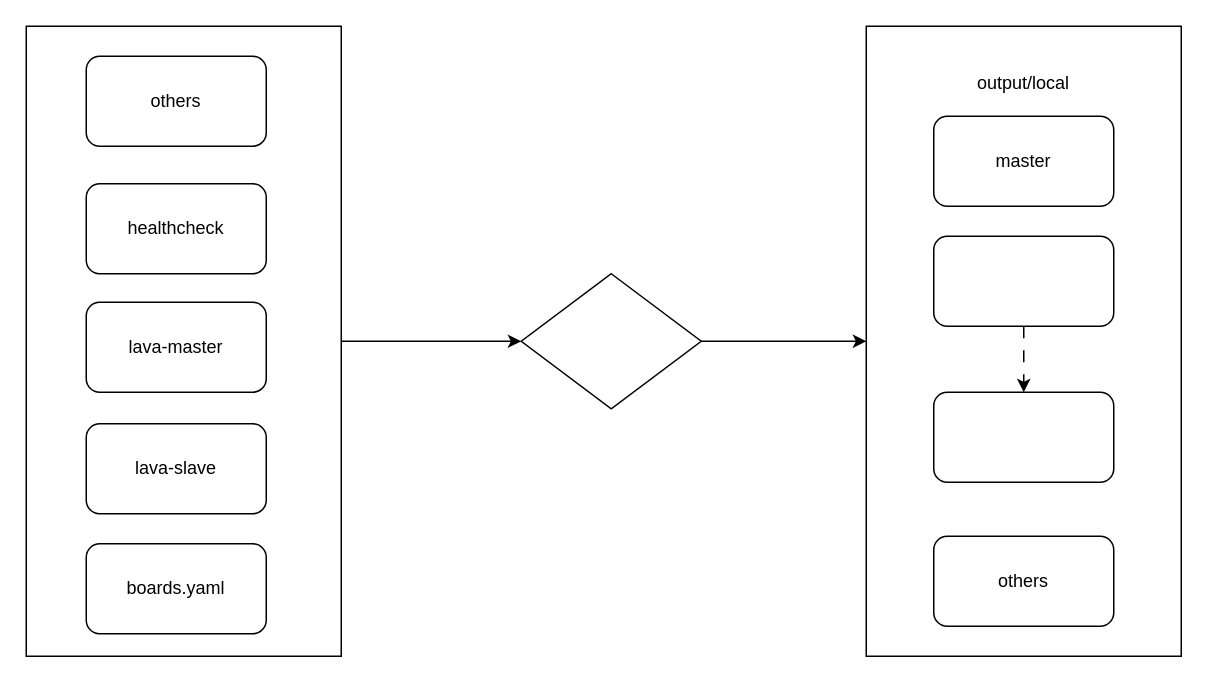
This 1208x683 diagram has some shape labels left out. Each missing label, with the centre of its shape:
lavalab-gen.py: (x=610, y=340)
slave_1: (x=1023, y=280)
slave_N: (x=1023, y=436)
